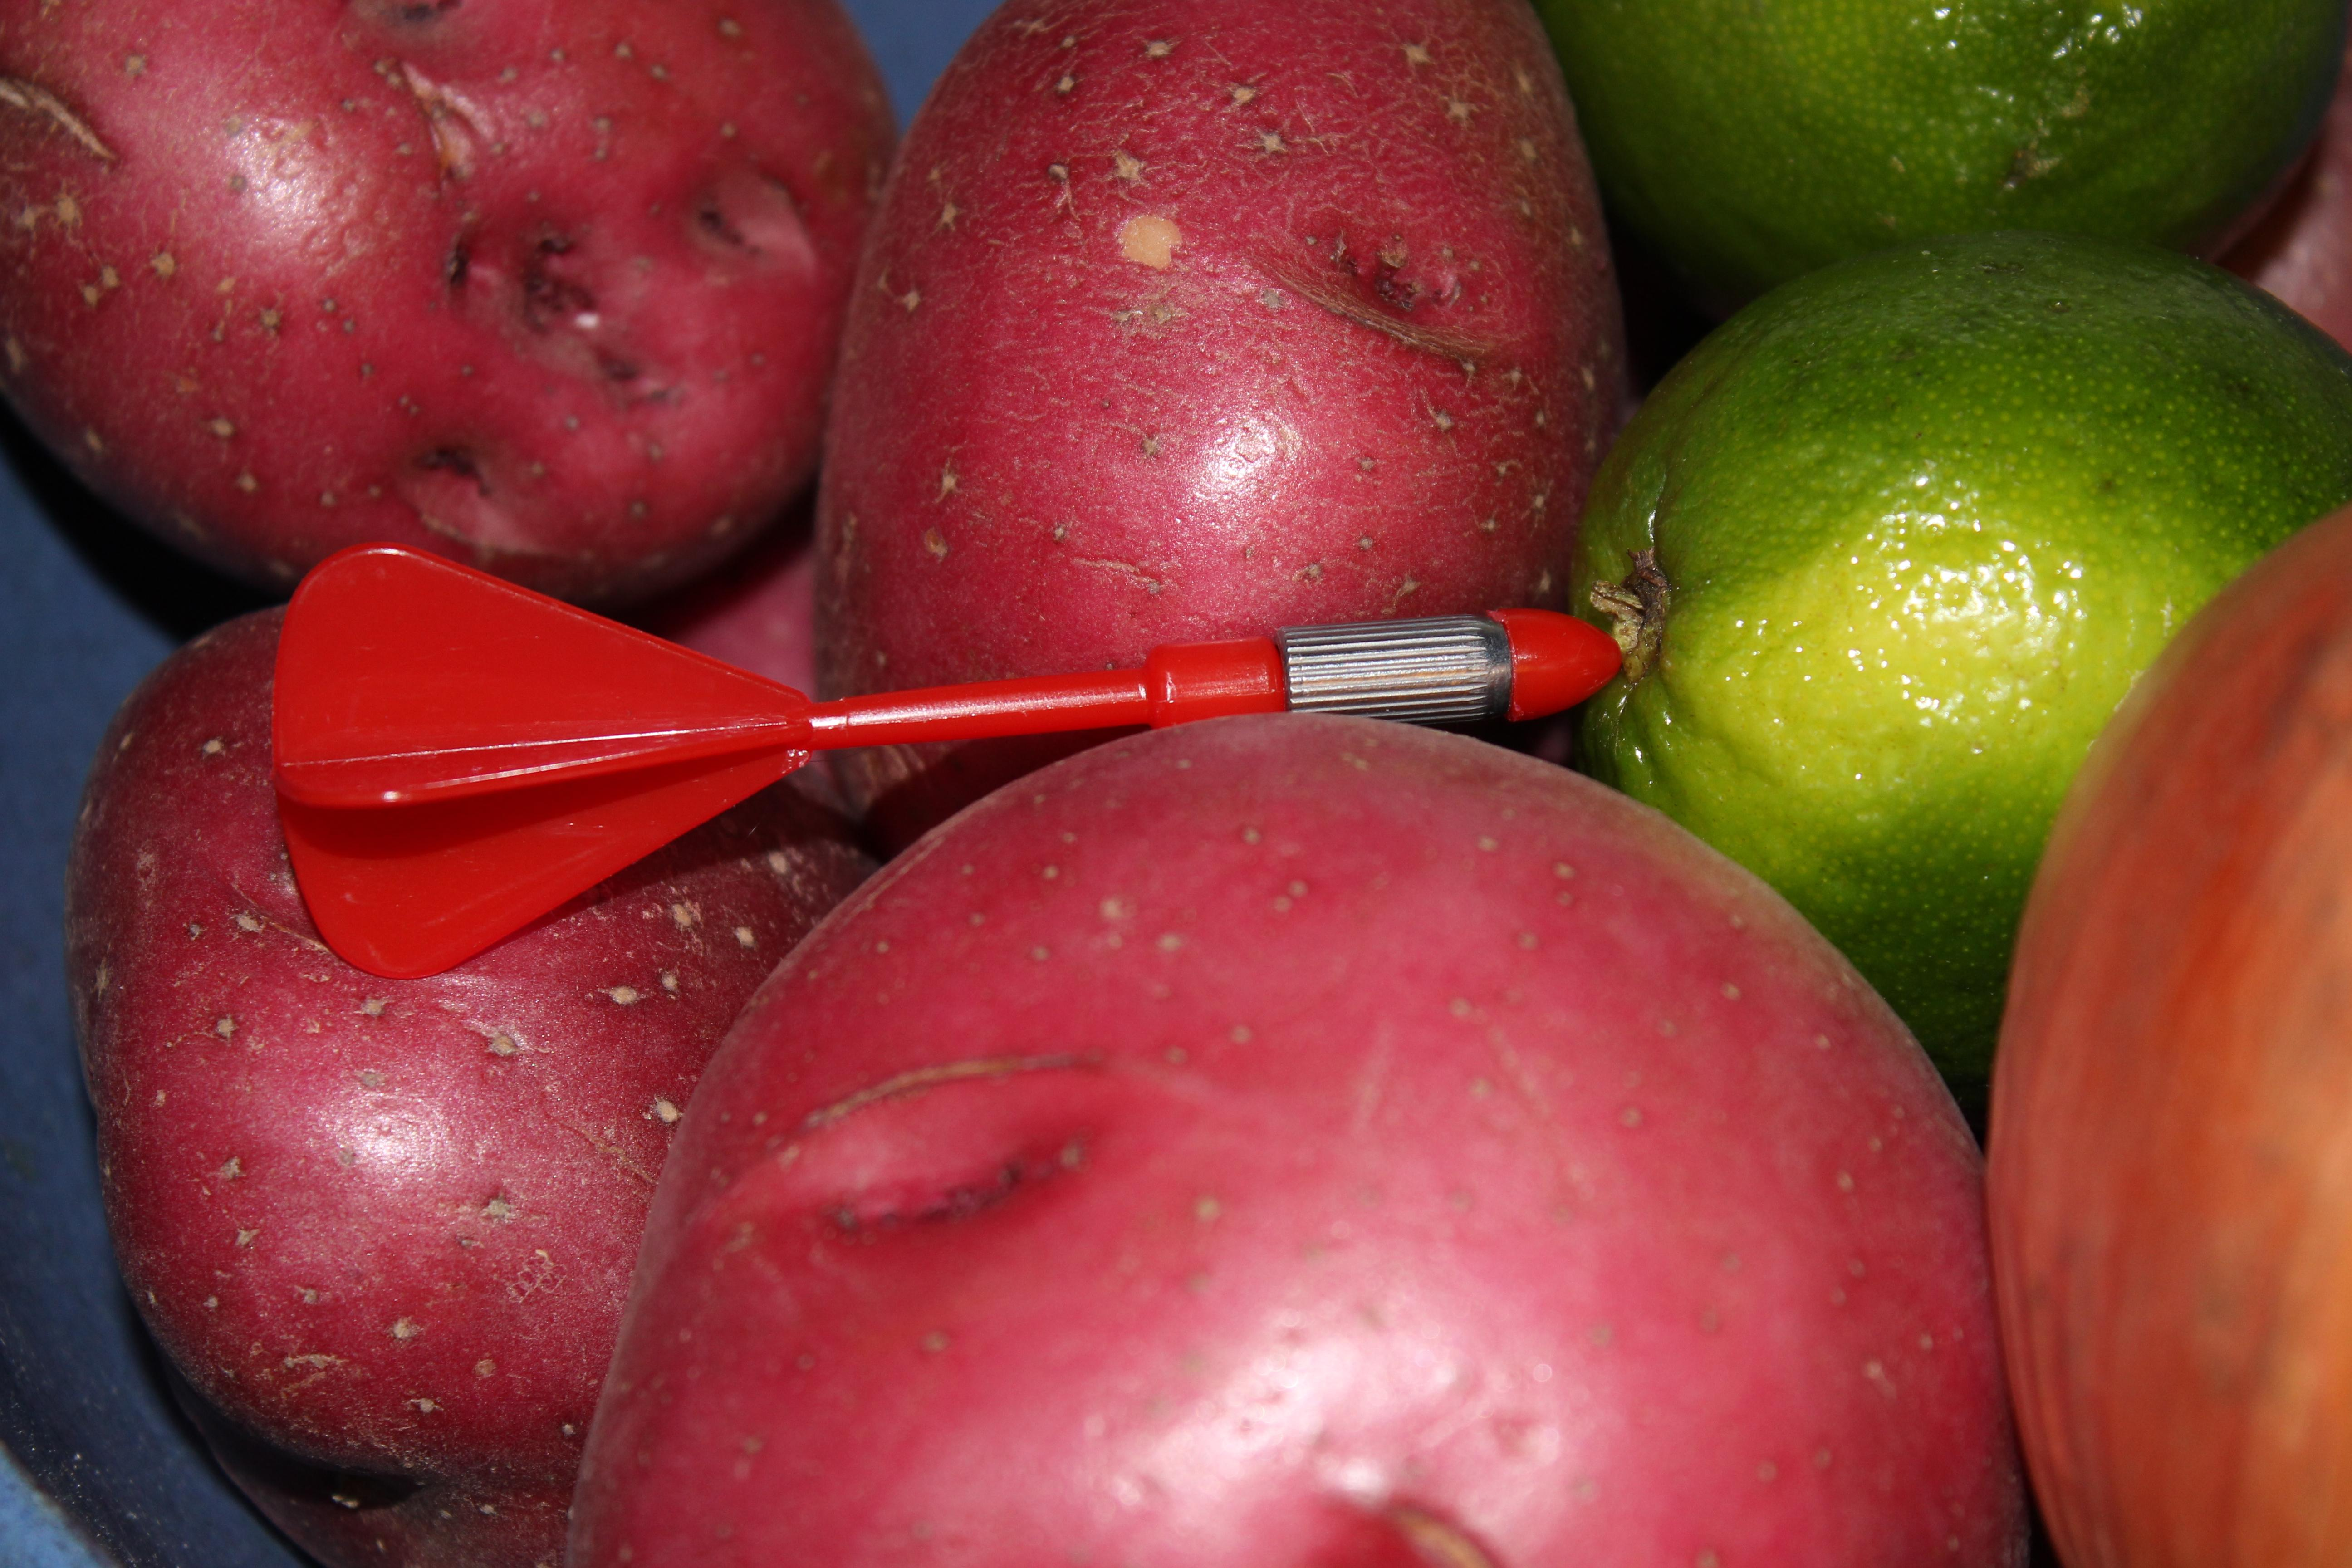redDart: (233, 495, 1692, 1019)
